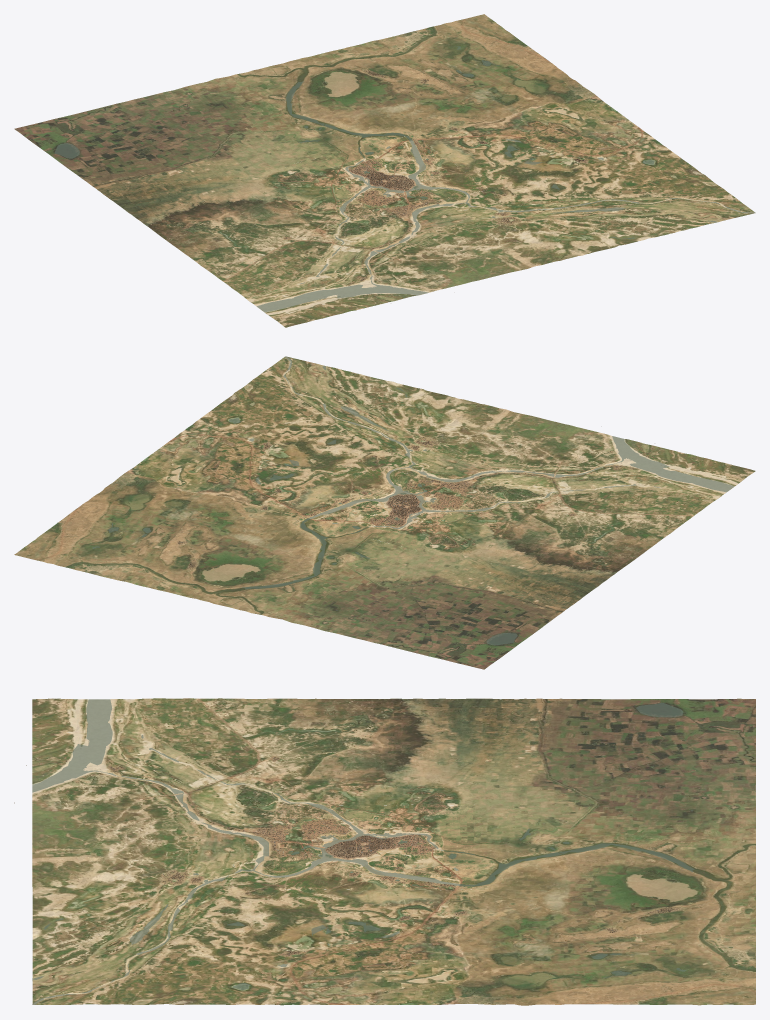
File: djenne-ville-leger.glb
3 views of the same model, one above another, from view 1: azimuth 30°, elevation 25°; view 2: azimuth 150°, elevation 25°; view 3: azimuth 270°, elevation 25° (orthographic). The views are drawn at different scales.
Visible parts, largest first — view 1: Sol_Large_z16, Sol_Ville_z18, Fleuve_Eau; view 2: Sol_Large_z16, Sol_Ville_z18, Fleuve_Eau; view 3: Sol_Large_z16, Sol_Ville_z18, Fleuve_Eau.
Part boxes in pixels (left/top/right/bottom): Sol_Large_z16: left=14, top=14, right=755, bottom=327; Sol_Ville_z18: left=283, top=134, right=488, bottom=221; Fleuve_Eau: left=55, top=46, right=755, bottom=311; Sol_Large_z16: left=14, top=356, right=755, bottom=669; Sol_Ville_z18: left=296, top=465, right=501, bottom=552; Fleuve_Eau: left=92, top=356, right=734, bottom=645; Sol_Large_z16: left=32, top=698, right=755, bottom=1005; Sol_Ville_z18: left=273, top=804, right=474, bottom=890; Fleuve_Eau: left=32, top=699, right=694, bottom=1004.
Size of the model in its own units: 12723 by 58.16 by 13046.
7 materials, 4 textured.
